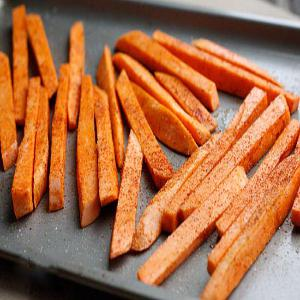fries: (3, 9, 300, 289)
